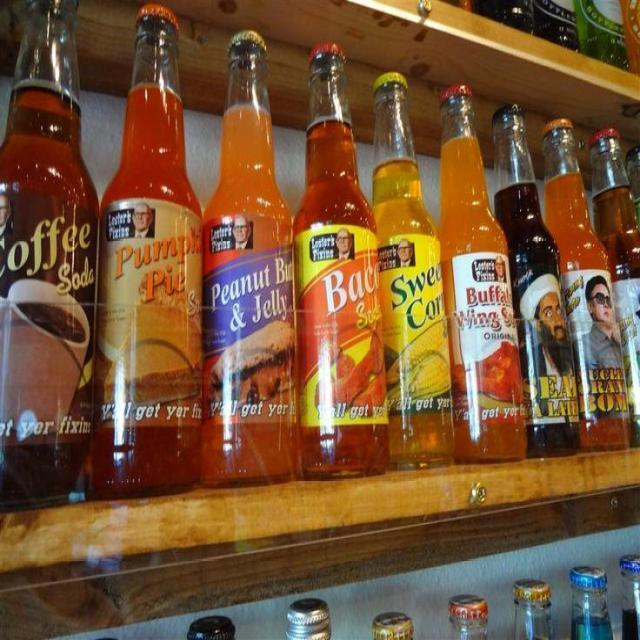glass bottle: (0, 0, 100, 514), (101, 4, 203, 492), (204, 31, 298, 488), (293, 43, 389, 477), (369, 73, 457, 467), (488, 102, 580, 457), (441, 85, 528, 460), (541, 118, 629, 450)
